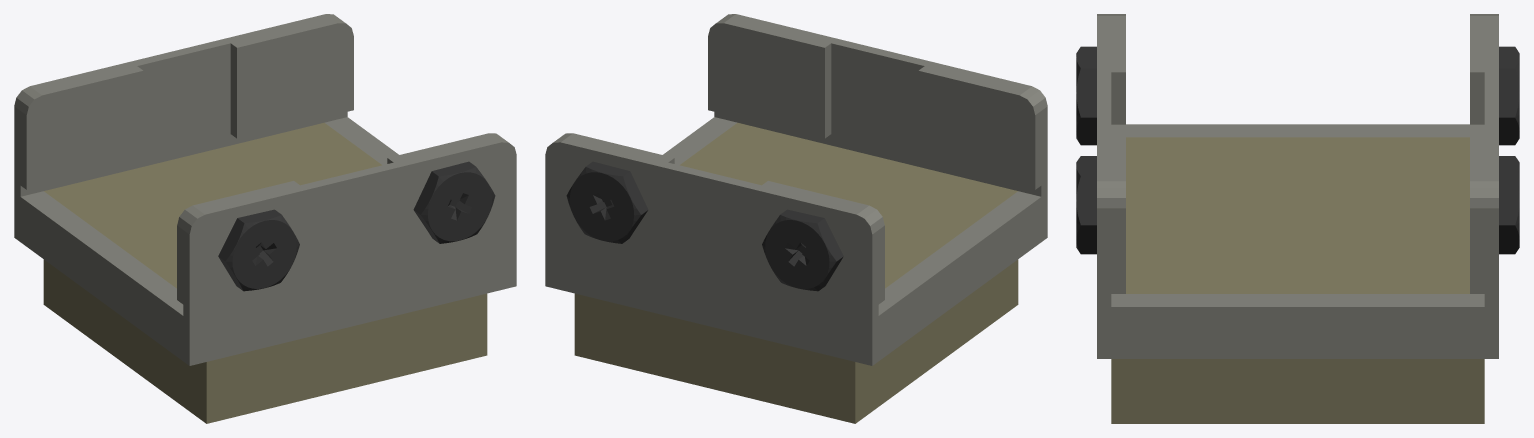
File: StraightConnector.fbx
3 renders of one model, left to right at view 1: azimuth 30°, elevation 25°; view 2: azimuth 150°, elevation 25°; view 3: azimuth 270°, elevation 25°, orthographic. The views are drawn at different scales.
Visible parts, largest first — view 1: Saw.005; view 2: Saw.005; view 3: Saw.005.
Boxes of the visible parts, x1=… form: Saw.005: x1=14, y1=14, x2=516, y2=423; Saw.005: x1=545, y1=14, x2=1047, y2=423; Saw.005: x1=1076, y1=14, x2=1519, y2=423.
Size of the model in its own units: 3.01 by 1.9 by 3.09.
